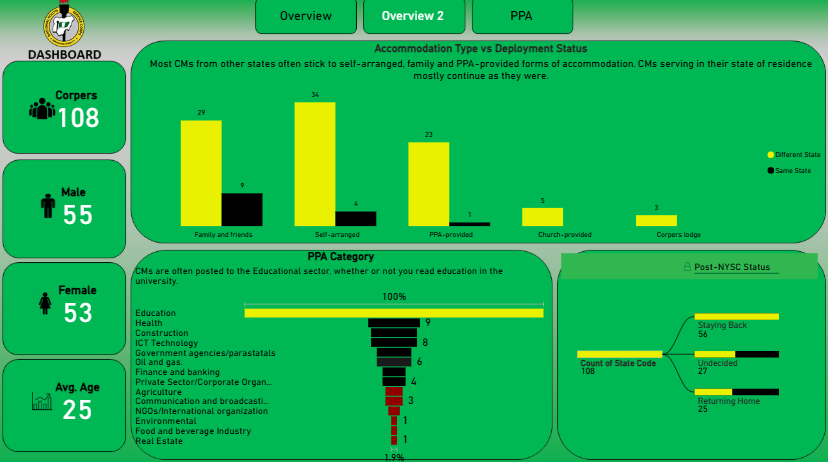

The dashboard page shown, as its layout file describes it:
{"tool":"powerbi","page":{"name":"Page 3","canvas":[1280,720],"ordinal":2},"visuals":[{"type":"clusteredColumnChart","title":"Accommodation Type vs Deployment Status","fields":{"Category":["Table1_3.Accommodation Type"],"Y":["CountNonNull(Table1_3.State Code )"],"Series":["Table1_3.Deployment comparison"]},"box":[206.1,65.7,1074,309.2],"z":0},{"type":"decompositionTreeVisual","fields":{"Analyze":["CountNonNull(Table1_3.State Code )"],"ExplainBy":["Table1_3.Post-NYSC Status"]},"box":[872.4,385.4,407.8,334.6],"z":1000},{"type":"cardVisual","fields":{"Data":["CountNonNull(Table1_3.State Code )","Max(Table1_3.Male)","Max(Table1_3.female)","Avg(Table1_3.Age estimate)"]},"box":[0,94.1,206.1,625.9],"z":2000},{"type":"funnel","title":"PPA Category","fields":{"Category":["Table1_3.PPA Category"],"Y":["CountNonNull(Table1_3.State Code )"]},"box":[206.1,385.4,655.8,334.6],"z":3000},{"type":"actionButton","box":[0,0,100,40],"z":4000},{"type":"actionButton","box":[0,0,100,40],"z":5000},{"type":"actionButton","title":"Overview","box":[466.1,6,137.4,53.8],"z":6000},{"type":"actionButton","title":"Overview","box":[660.2,6,137.4,53.8],"z":7000},{"type":"actionButton","title":"Overview","box":[850,6,137.4,53.8],"z":8000}]}

Visuals, with their boxes in screenshot pixels (x1, y1, x2, y2), scaled from the page's 1280x720 canvas onto the 828x462 screenshot:
"Accommodation Type vs Deployment Status" clusteredColumnChart: 133, 42, 827, 241
decompositionTreeVisual - CountNonNull(Table1_3.State Code ) x Table1_3.Post-NYSC Status: 564, 247, 827, 461
cardVisual - CountNonNull(Table1_3.State Code ) x Max(Table1_3.Male): 0, 60, 133, 461
"PPA Category" funnel: 133, 247, 558, 461
actionButton: 0, 0, 65, 26
actionButton: 0, 0, 65, 26
"Overview" actionButton: 302, 4, 390, 38
"Overview" actionButton: 427, 4, 516, 38
"Overview" actionButton: 550, 4, 639, 38
